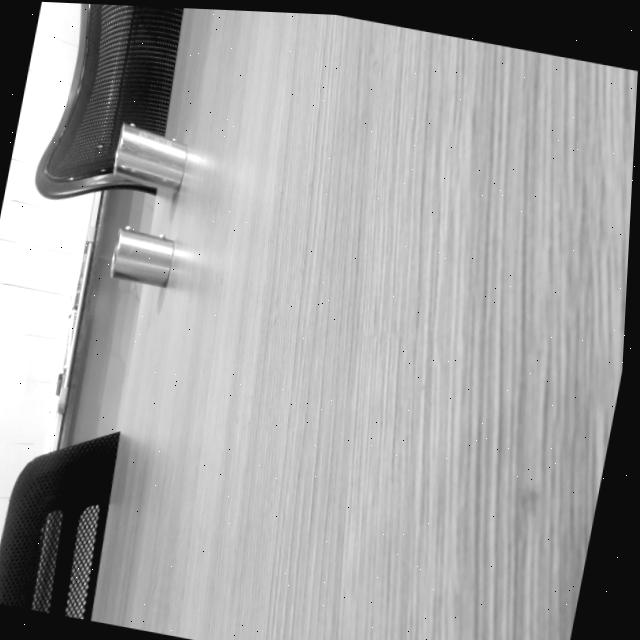Co_Lon: (108, 121, 194, 194)
Co_Nho: (109, 225, 177, 288)
